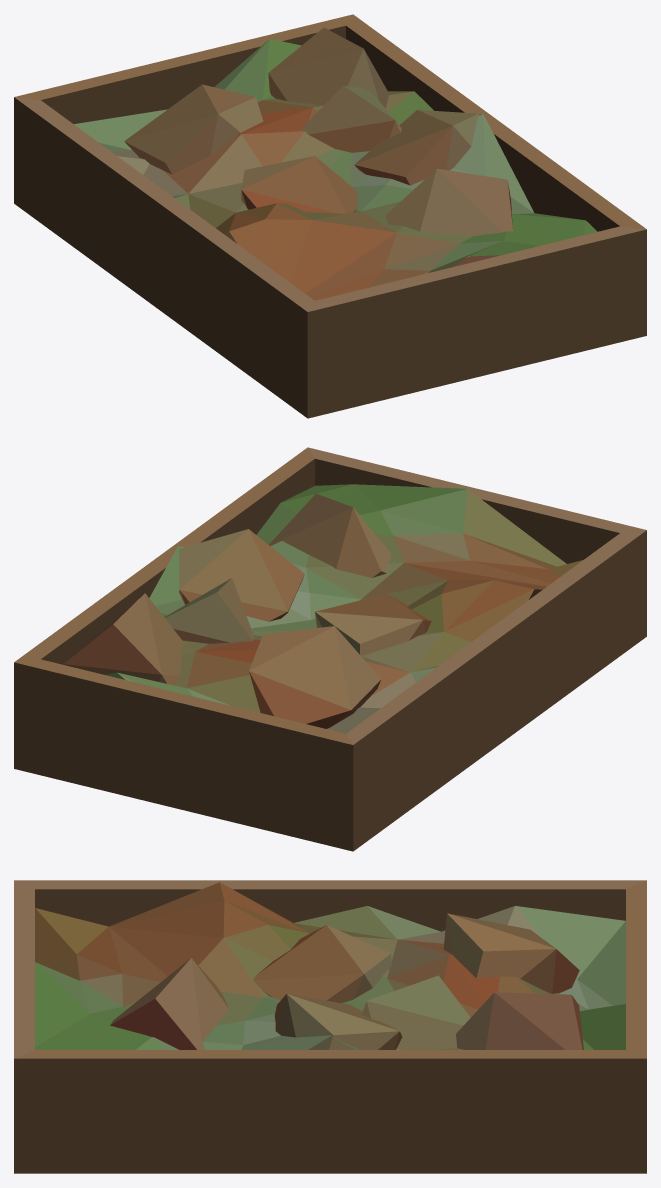
File: Prop_FoodBoxB.fbx
3 views of the same model, one above another, from view 1: azimuth 30°, elevation 25°; view 2: azimuth 150°, elevation 25°; view 3: azimuth 270°, elevation 25° (orthographic). The views are drawn at different scales.
Visible parts, largest first — view 1: Prop_FoodBoxB; view 2: Prop_FoodBoxB; view 3: Prop_FoodBoxB.
Part boxes in pixels (box(x1,y1,x2,y2)): Prop_FoodBoxB: box(14, 14, 646, 418); Prop_FoodBoxB: box(14, 447, 646, 851); Prop_FoodBoxB: box(14, 880, 646, 1173).
Size of the model in its own units: 50 by 21.3 by 75.
